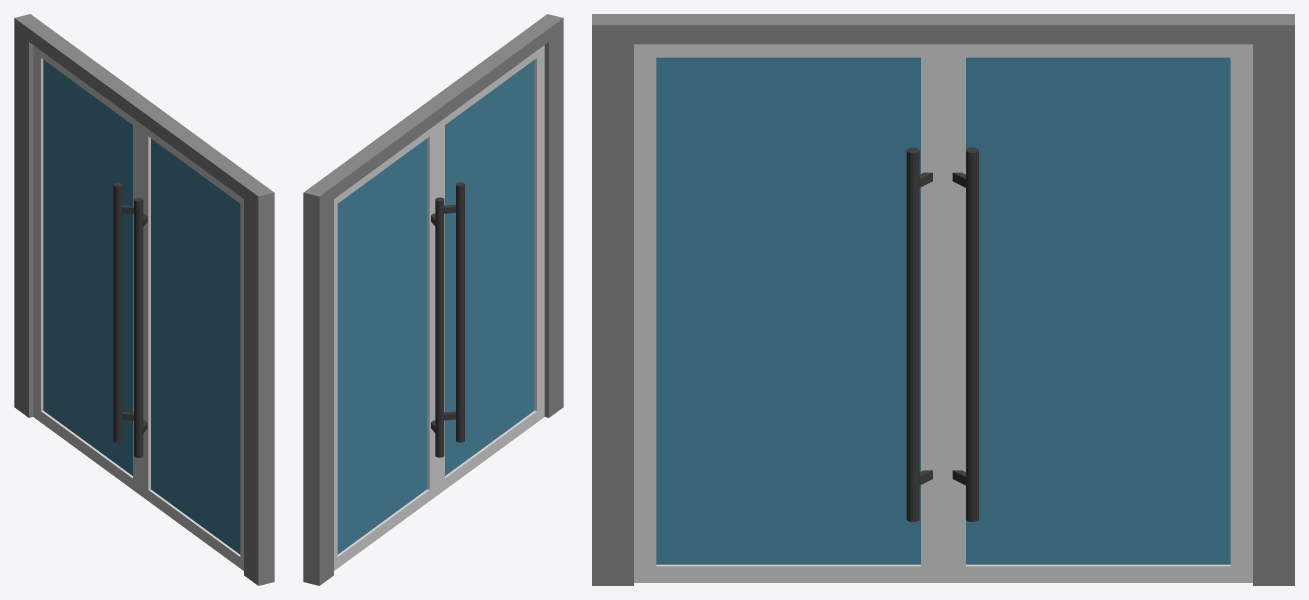
Rendered from double_door_1.fbx.
3 views of the same model, side by side, from view 1: azimuth 30°, elevation 25°; view 2: azimuth 150°, elevation 25°; view 3: azimuth 270°, elevation 25° (orthographic). The views are drawn at different scales.
Visible parts, largest first — view 1: Frame Left, Frame Right, surrounds, door handle right, door handle left; view 2: Frame Right, Frame Left, surrounds, door handle right, door handle left; view 3: Frame Left, Frame Right, surrounds, door handle left, door handle right.
Boxes of the visible parts, x1=… form: Frame Left: x1=140, y1=124, x2=243, y2=570; Frame Right: x1=33, y1=45, x2=140, y2=495; surrounds: x1=14, y1=14, x2=274, y2=585; door handle right: x1=113, y1=182, x2=133, y2=442; door handle left: x1=134, y1=198, x2=147, y2=457; Frame Right: x1=334, y1=124, x2=437, y2=570; Frame Left: x1=437, y1=45, x2=544, y2=495; surrounds: x1=303, y1=14, x2=563, y2=585; door handle right: x1=431, y1=197, x2=444, y2=457; door handle left: x1=444, y1=182, x2=464, y2=442; Frame Left: x1=634, y1=44, x2=943, y2=582; Frame Right: x1=943, y1=44, x2=1252, y2=582; surrounds: x1=592, y1=14, x2=1294, y2=585; door handle left: x1=906, y1=147, x2=932, y2=521; door handle right: x1=952, y1=147, x2=978, y2=521.
Size of the model in its own units: 48.4 by 442 by 502.
